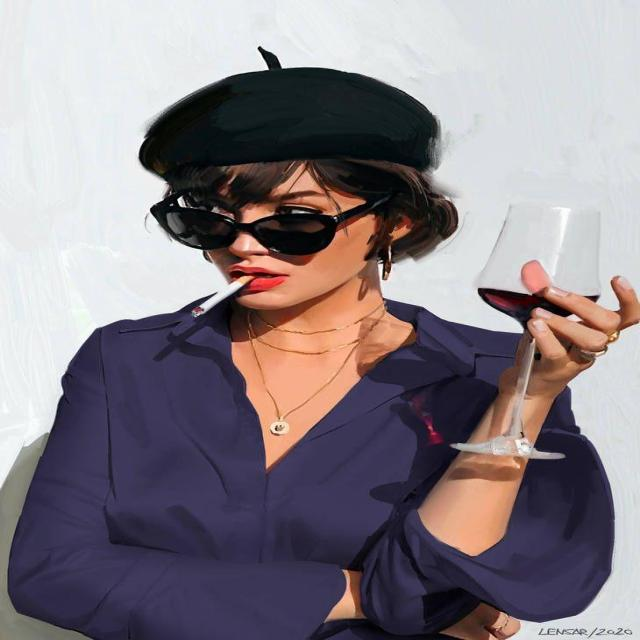cigarette: (181, 260, 261, 334)
